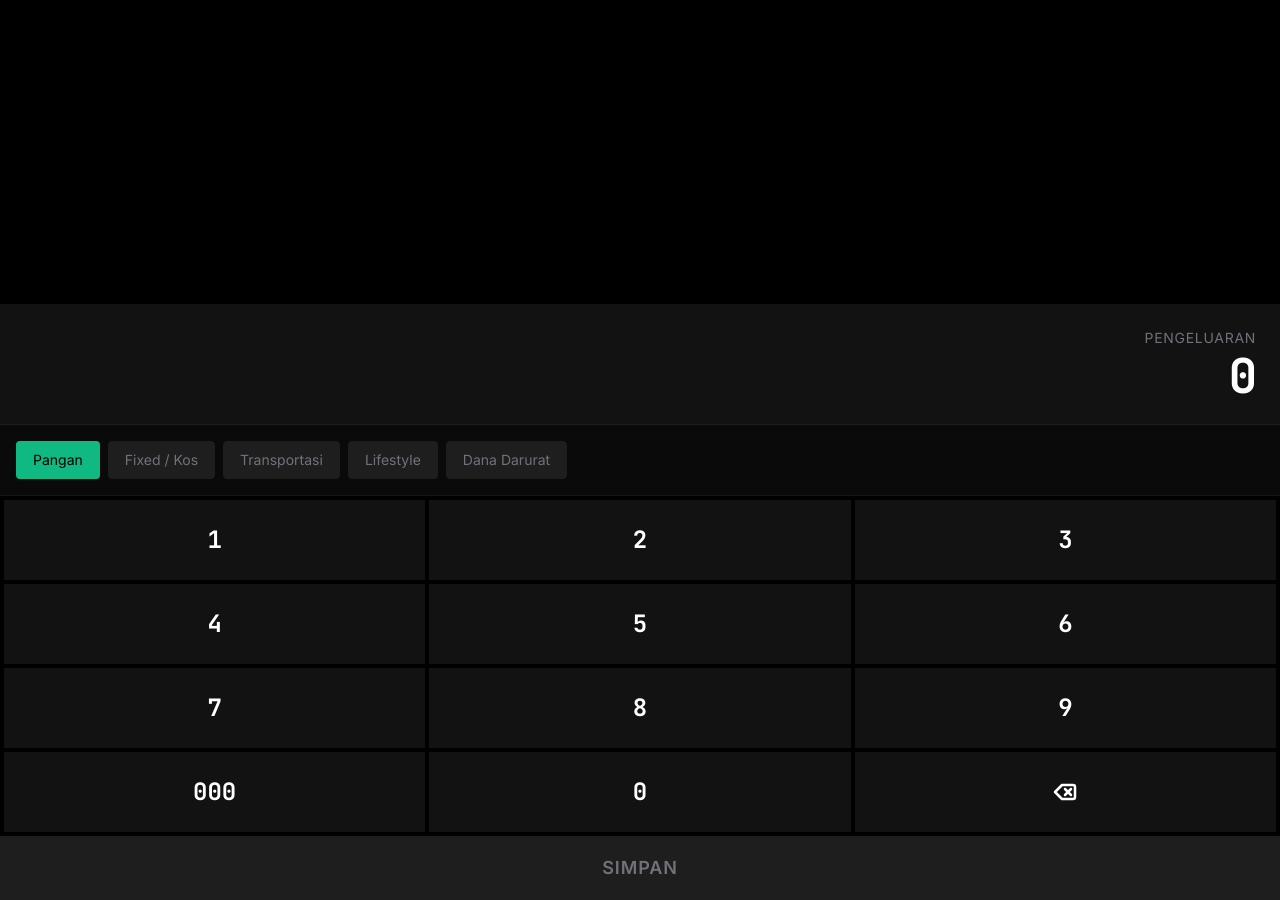
Test: KeypadModal.vue › Simpan button is enabled when amount > 0
Click the button "1".
click(215, 540)  # box [4, 500, 425, 580]
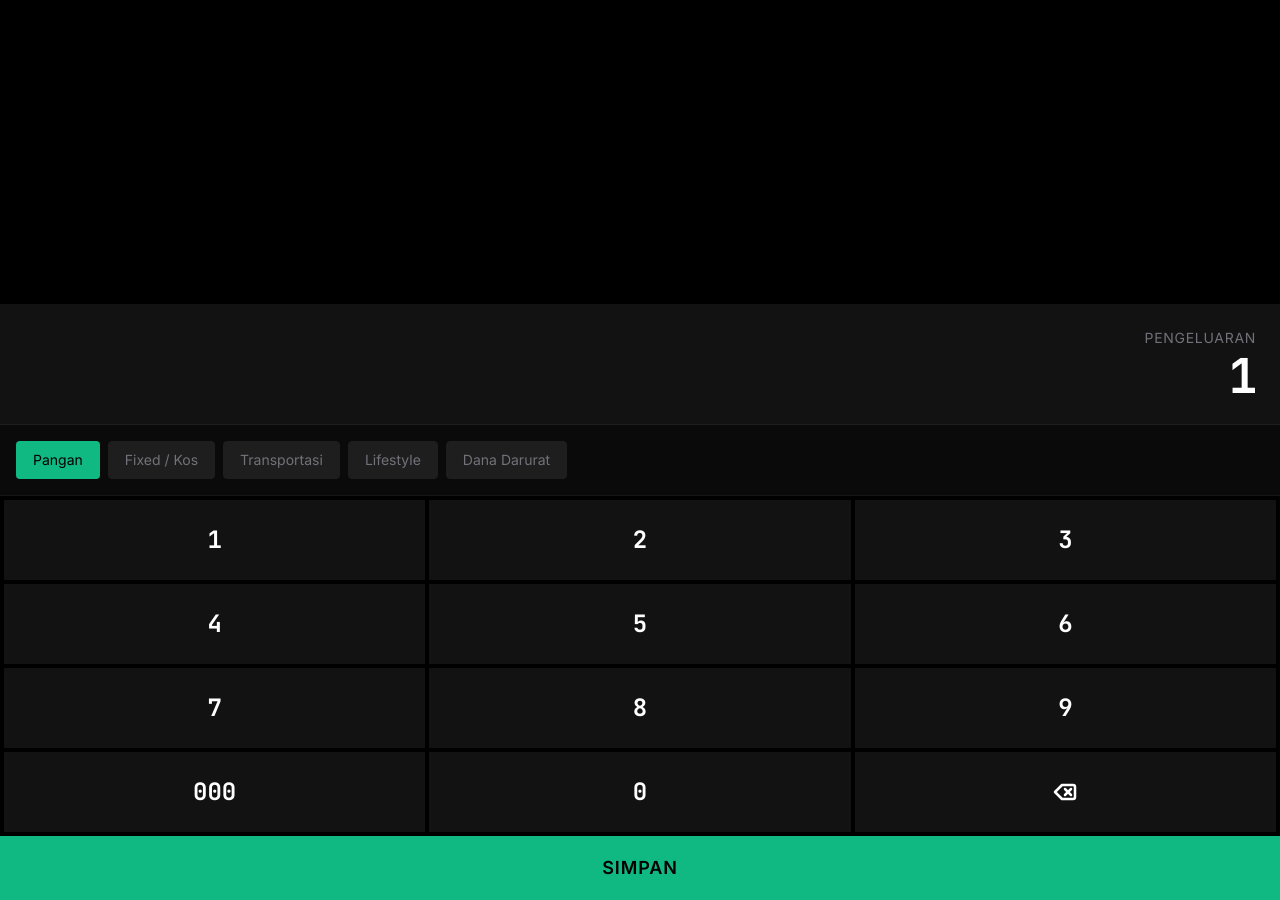
Result: the button "Simpan" is enabled at [0, 836, 1279, 899]
